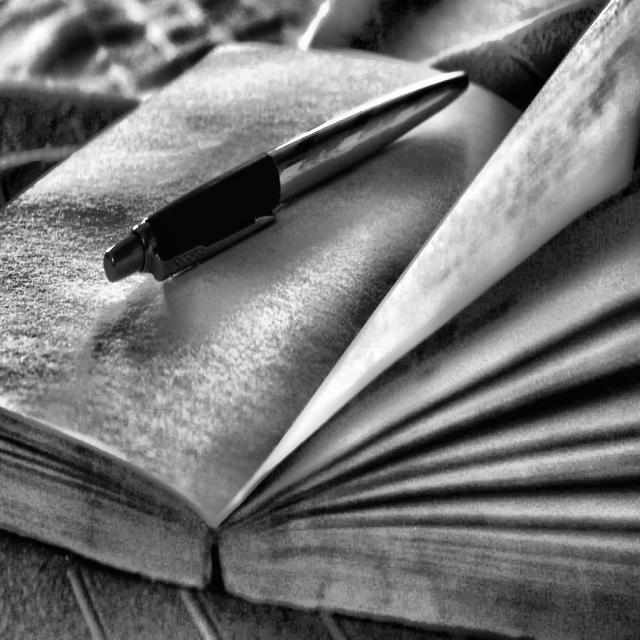Pen: (101, 69, 471, 286)
